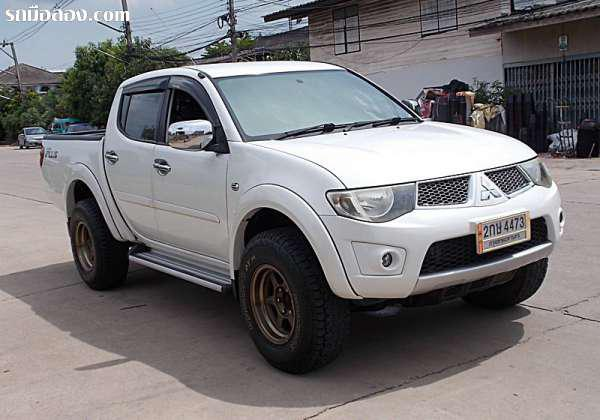pickup: (35, 59, 568, 377)
